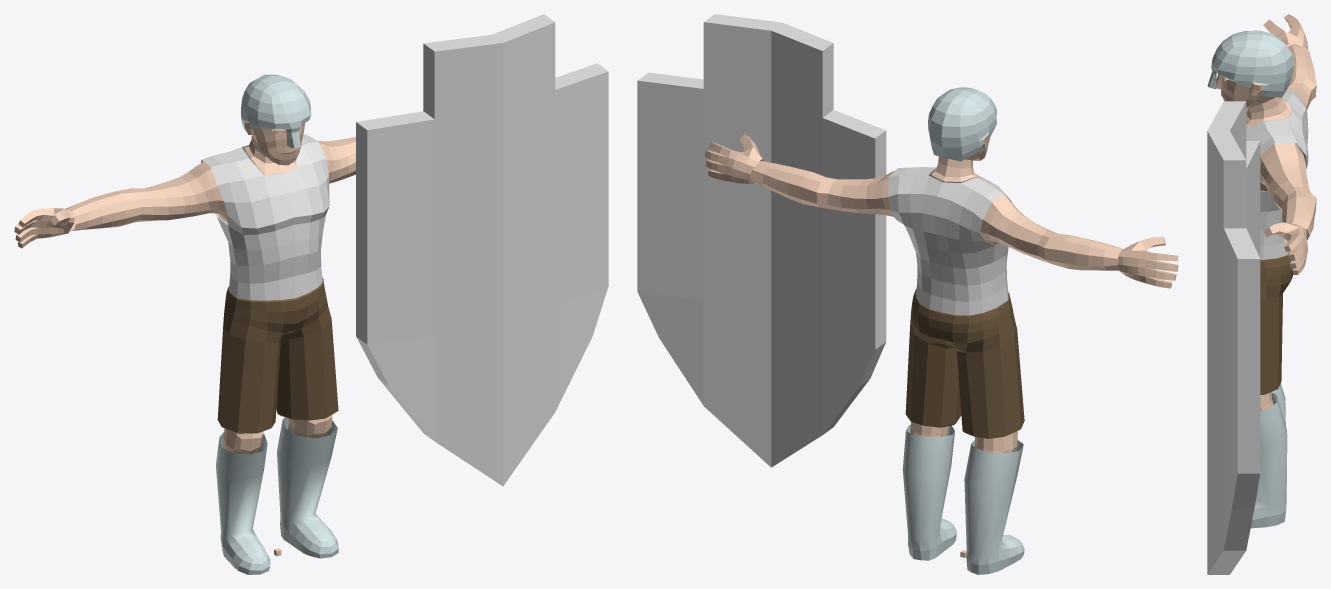
The model's file is guardian.fbx.
3 renders of one model, left to right at view 1: azimuth 30°, elevation 25°; view 2: azimuth 150°, elevation 25°; view 3: azimuth 270°, elevation 25°, orthographic.
Parts seen in each view (by area): view 1: guardian__1_:Mesh; view 2: guardian__1_:Mesh; view 3: guardian__1_:Mesh.
Part boxes in pixels (<box>): guardian__1_:Mesh: <box>14,14,608,574</box>; guardian__1_:Mesh: <box>637,14,1178,574</box>; guardian__1_:Mesh: <box>1207,14,1316,574</box>.
Size of the model in its own units: 237 by 191 by 39.63.
